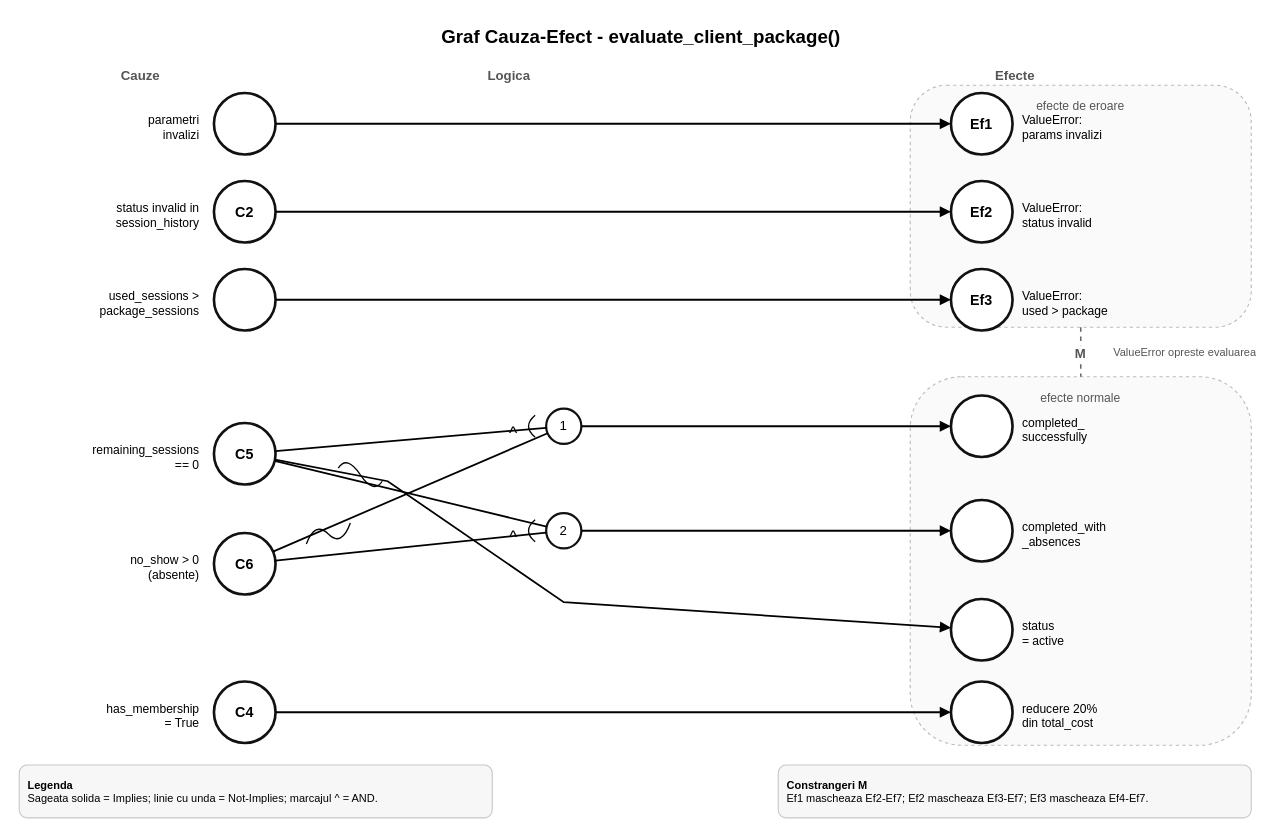
Some shapes in this 1276 by 837 pixel diagram are drawn without their labels. The shapes that lost their labels are listed below. From the top down, each one's box as (x1, y1, x2, y2) in pixels, then its label:
(212, 91, 276, 155): C1
(212, 267, 276, 331): C3
(949, 394, 1013, 458): Ef4
(949, 498, 1013, 562): Ef5
(949, 597, 1013, 661): Ef6
(949, 680, 1013, 744): Ef7
